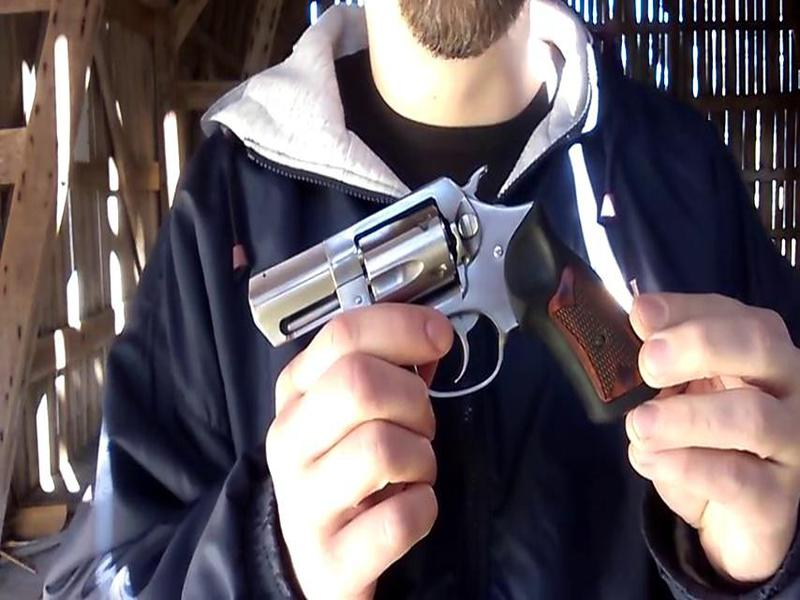Revolver: (241, 166, 652, 424)
